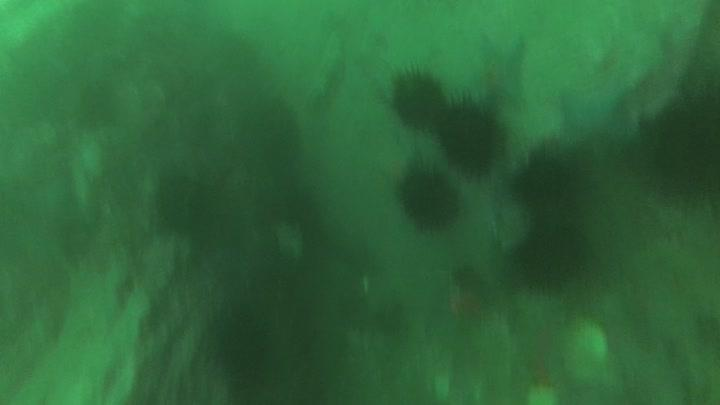urchin: (506, 216, 592, 293), (503, 141, 591, 209), (388, 156, 462, 230), (435, 93, 503, 172), (380, 63, 453, 132)
